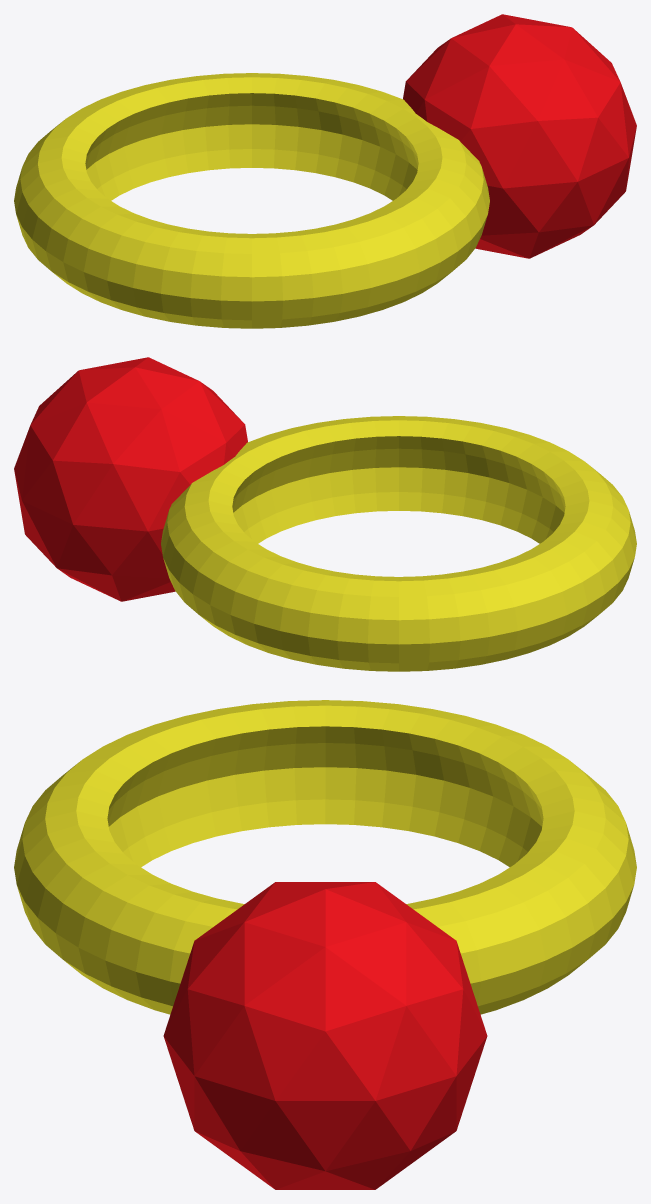
File: RedRing.fbx
The picture shows the model from 3 angles, top to bottom: view 1: azimuth 30°, elevation 25°; view 2: azimuth 150°, elevation 25°; view 3: azimuth 270°, elevation 25°; orthographic projection. The views are drawn at different scales.
Parts seen in each view (by area): view 1: Torus, Icosphere; view 2: Torus, Icosphere; view 3: Torus, Icosphere.
Part boxes in pixels (left/top/right/bottom): Torus: left=14, top=73, right=489, bottom=328; Icosphere: left=403, top=14, right=636, bottom=258; Torus: left=161, top=416, right=636, bottom=671; Icosphere: left=14, top=357, right=247, bottom=601; Torus: left=14, top=700, right=636, bottom=1014; Icosphere: left=163, top=882, right=487, bottom=1189.
Size of the model in its own units: 347 by 130 by 250.
